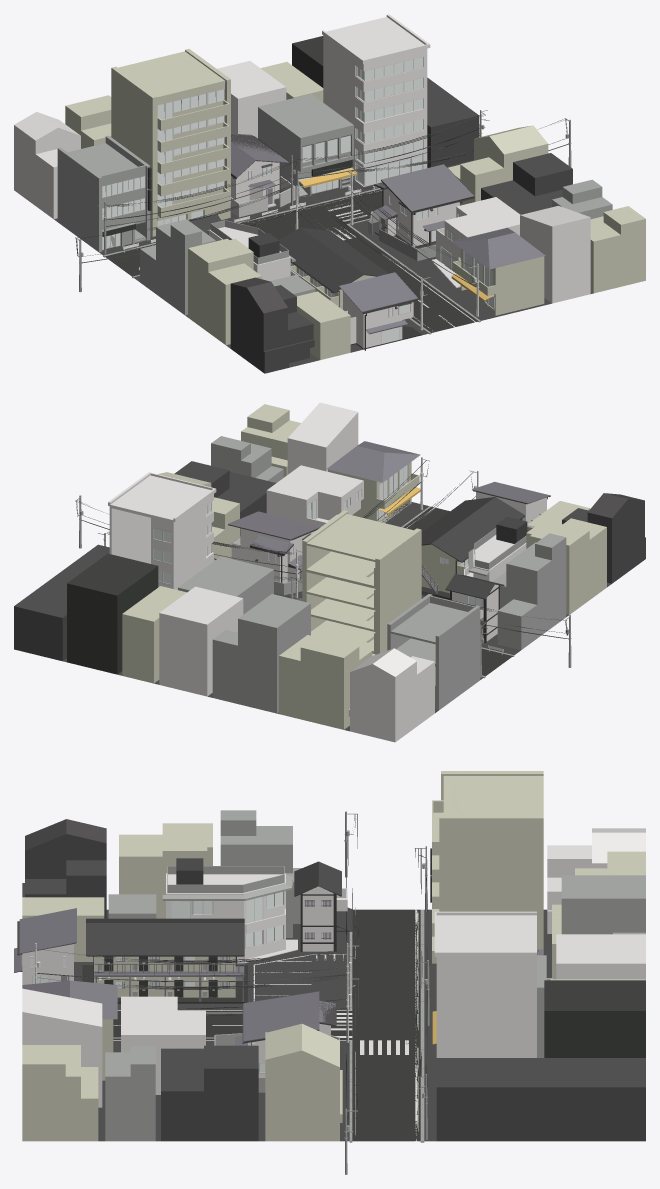
3 views of the same model, one above another, from view 1: azimuth 30°, elevation 25°; view 2: azimuth 150°, elevation 25°; view 3: azimuth 270°, elevation 25° (orthographic). The views are drawn at different scales.
Parts seen in each view (by area): view 1: Object_6; view 2: Object_6; view 3: Object_6.
Boxes of the visible parts, box(x1,y1,x2,y2) form: Object_6: box(14, 14, 645, 373); Object_6: box(14, 402, 645, 742); Object_6: box(14, 771, 645, 1174).
Bounding box in the file's own units: 70.84 × 19.74 × 63.36.
Materials: 1 (1 with a texture image).
